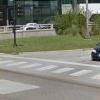Crosswalk: (5, 49, 100, 86)
